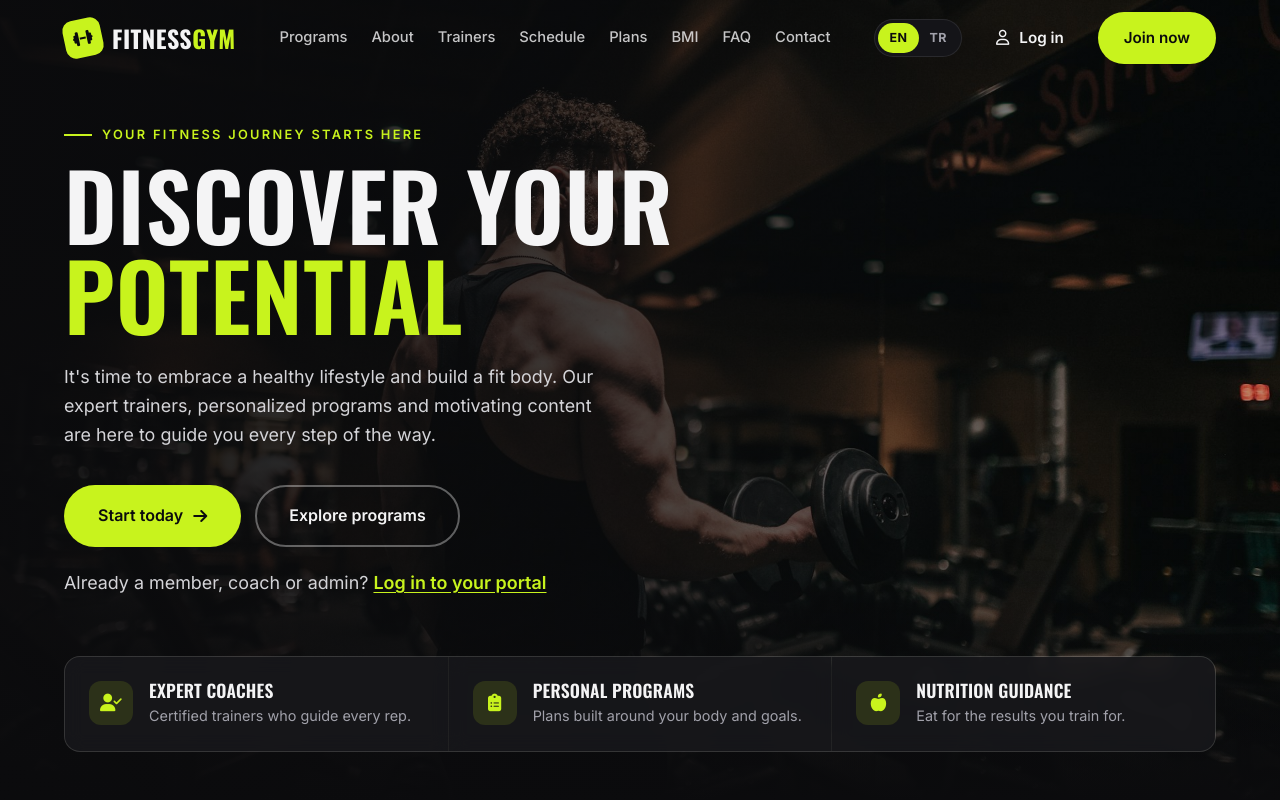
Test: new sections are translated
Click the button "TR".
click(938, 38)  # box [918,23,958,53]
(page scrolled)
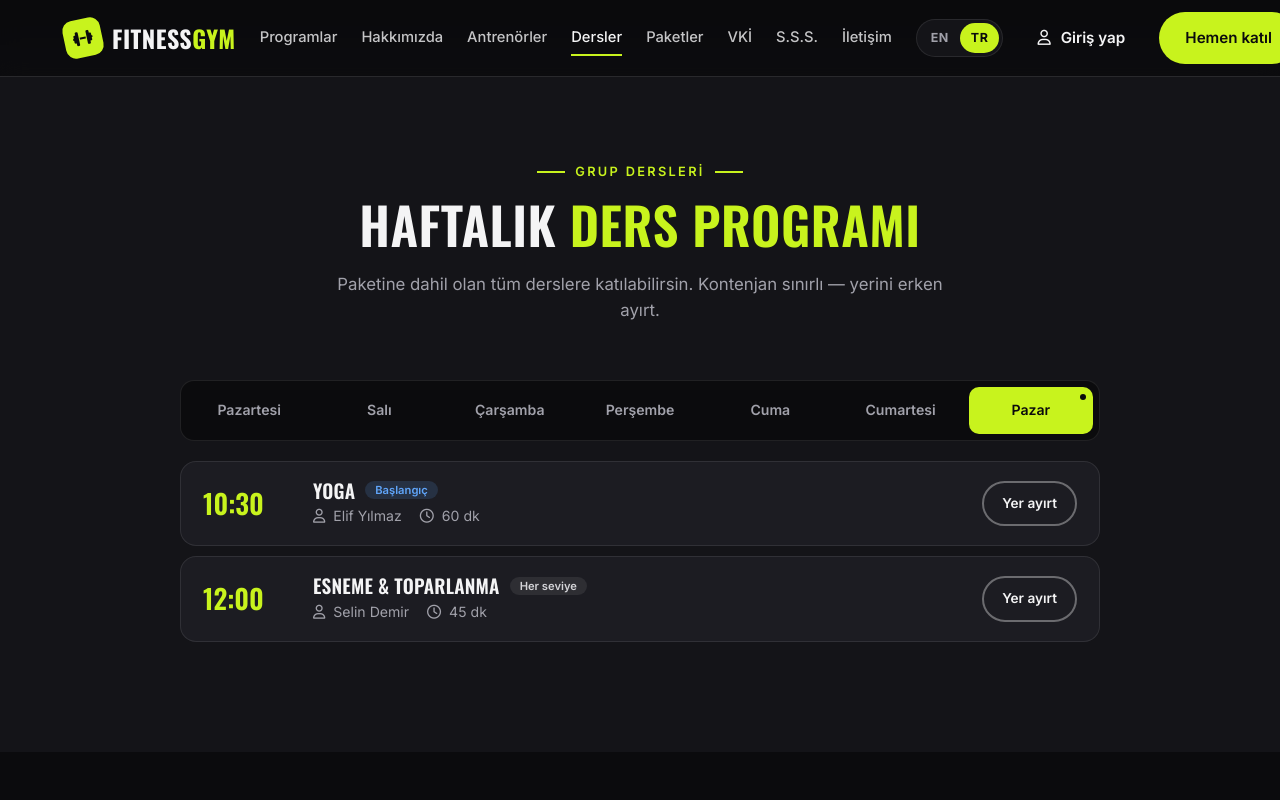
Expected: the heading "Haftalık ders programı" is shown, [320,196,960,252]
Expected: the tab "Cumartesi" is shown, [838,387,963,434]
